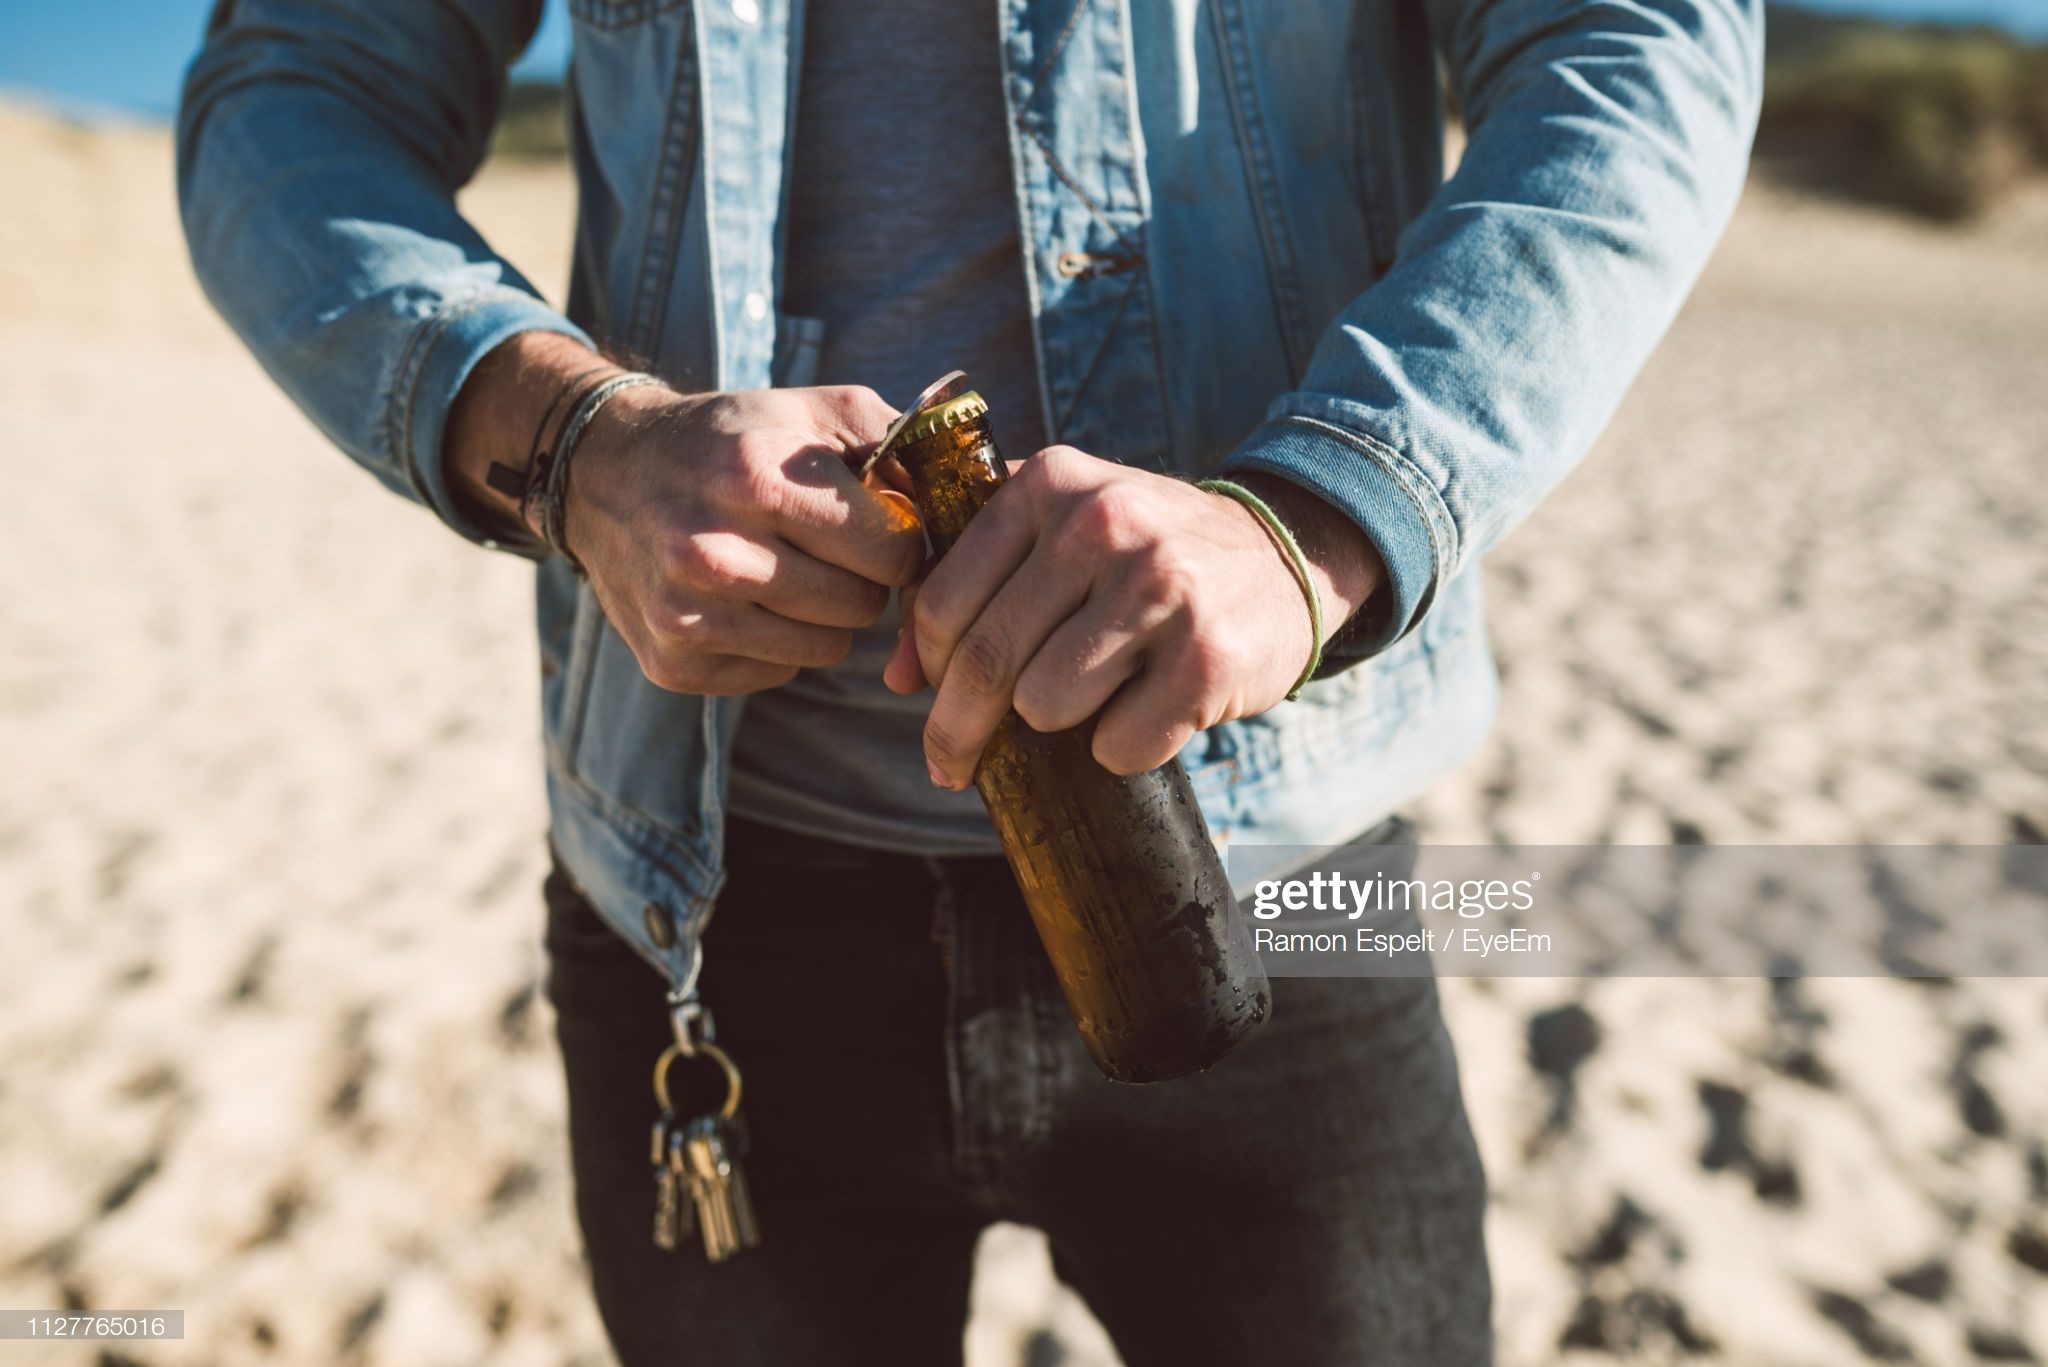beerBottle: (875, 400, 1266, 1060)
